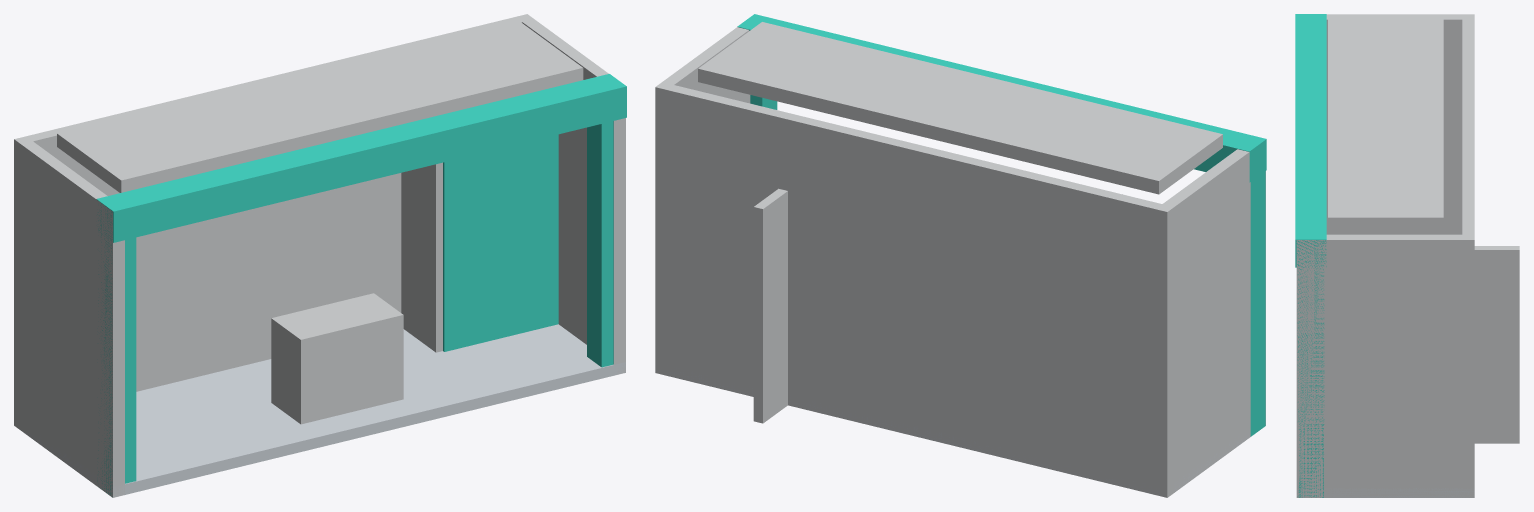
3 renders of one model, left to right at view 1: azimuth 30°, elevation 25°; view 2: azimuth 150°, elevation 25°; view 3: azimuth 270°, elevation 25°, orthographic. The views are drawn at different scales.
Parts seen in each view (by area): view 1: Exhibition Booth Concept; view 2: Exhibition Booth Concept; view 3: Exhibition Booth Concept.
Part boxes in pixels (x1,y1,x2,y2): Exhibition Booth Concept: [14, 14, 626, 497]; Exhibition Booth Concept: [655, 14, 1266, 497]; Exhibition Booth Concept: [1295, 14, 1519, 497].
Bounding box in the file's own units: 6 × 3.34 × 2.52.
